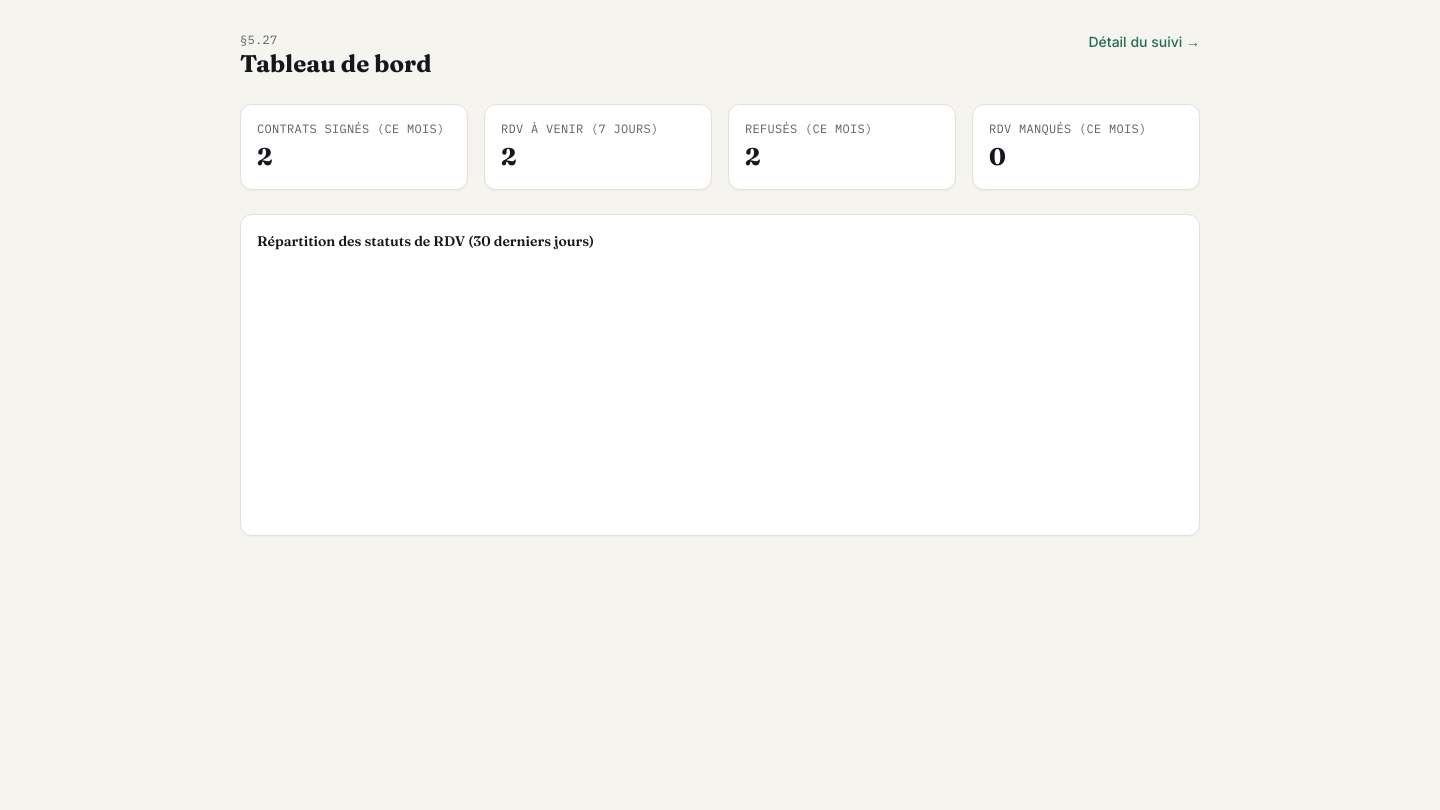
Test: /agent-rdv/dashboard — cartes RDV › « RDV à venir (7 jours) » : bouton, ouvre la modale avec agentRdvId = l'agent connecté et le filtre des statuts actifs
The image size is (1440, 810).
Click the button "RDV à venir (7 jours) 2": (598, 147) x1=484 y1=104 x2=712 y2=190
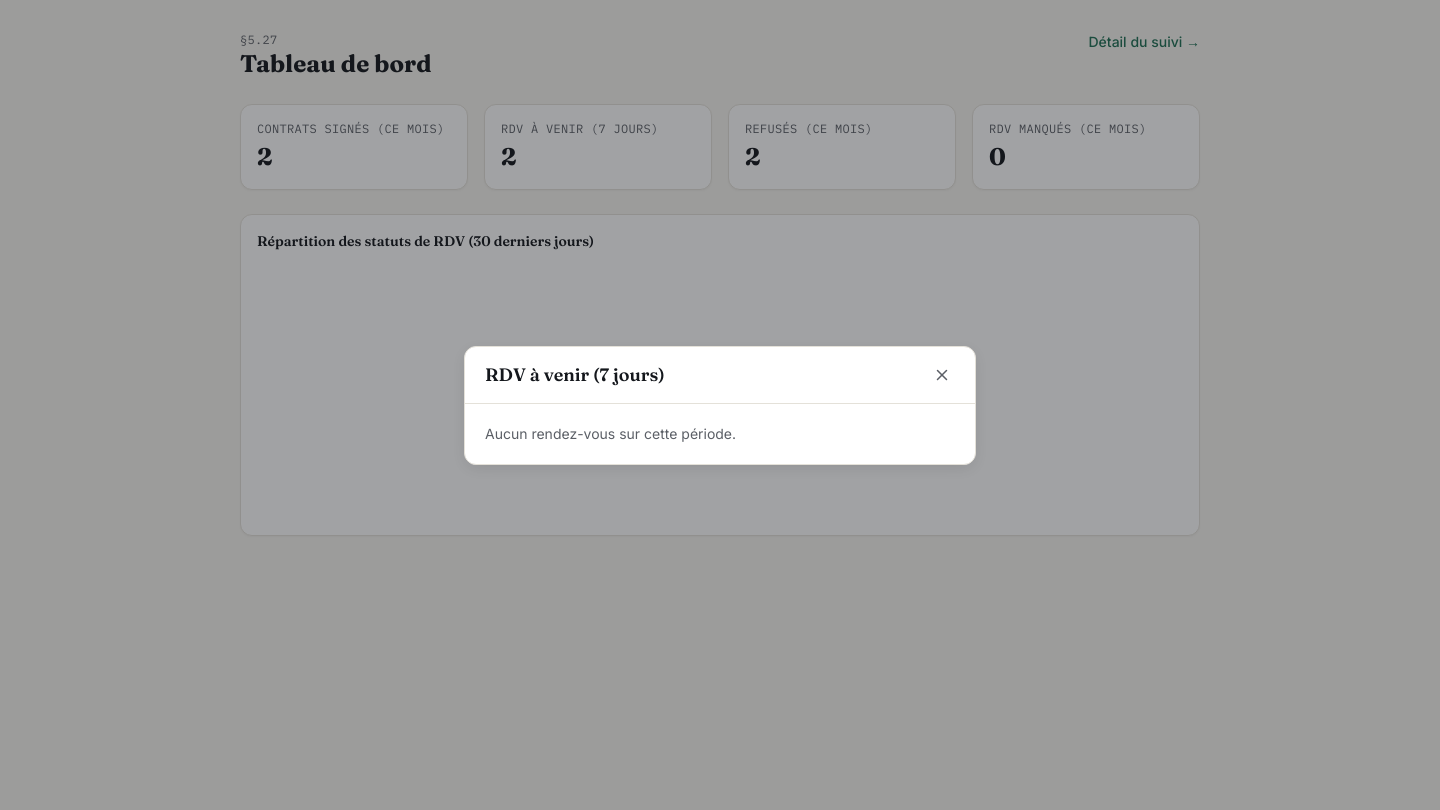
Result: the heading "RDV à venir (7 jours)" is shown at x1=485 y1=360 x2=665 y2=388
